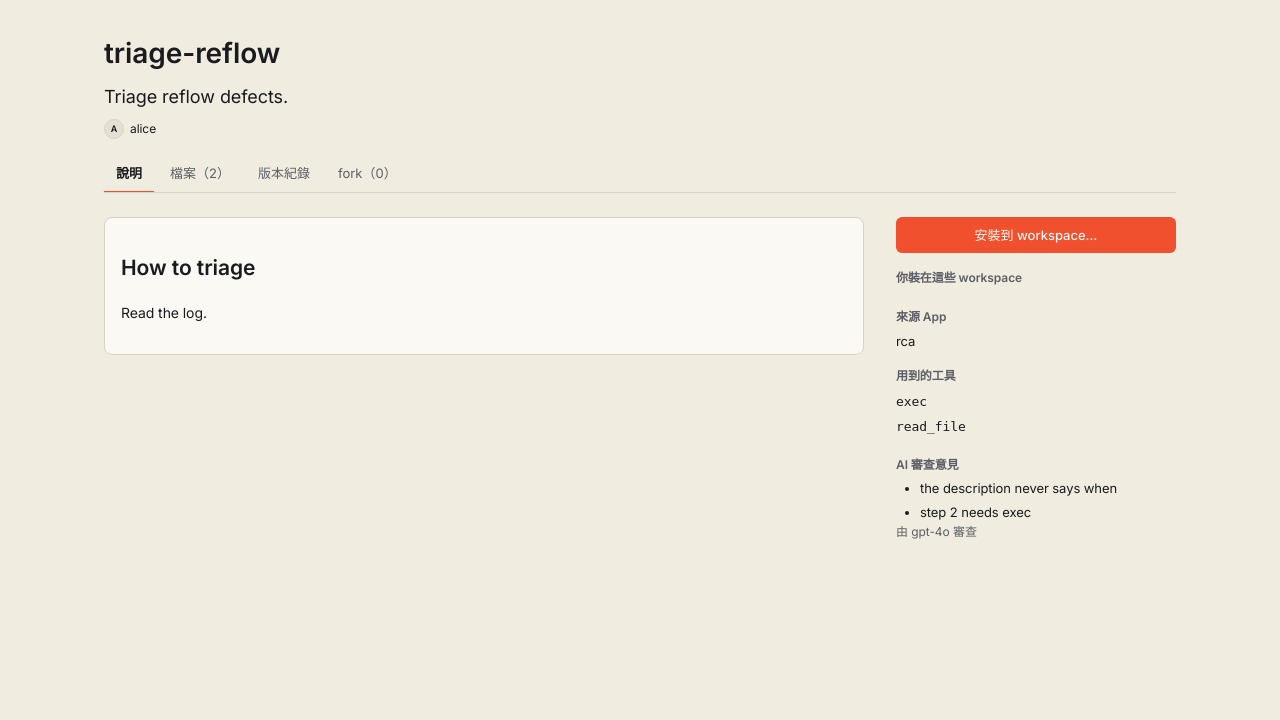
SkillHubEntryPage layout (plan-skill-hub-ux-redo D3, D5, D6, D16) › after an install, a reopen says that row is installed at once — not the stale 「可以安裝」 while it asks again (review round 3)
Click the button "安裝到 workspace…" at {"x": 1036, "y": 235}, box [896, 217, 1176, 253]
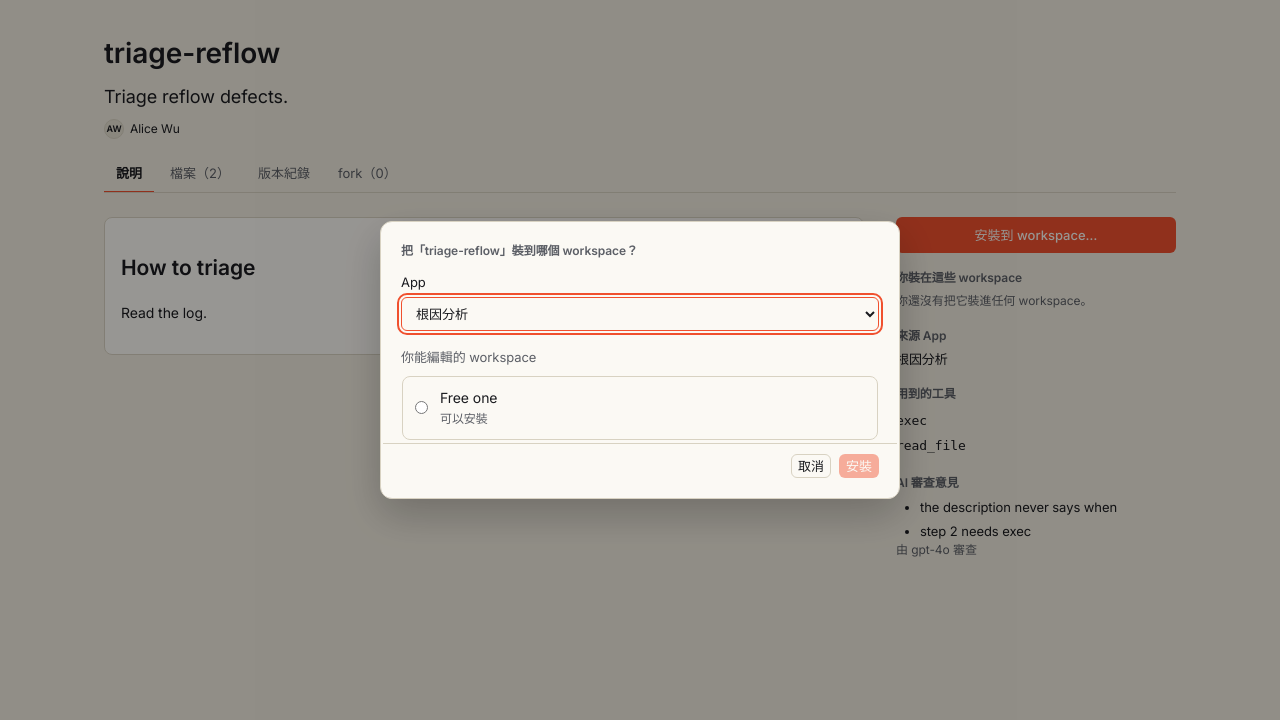
Now the text "可以安裝" is shown, box [440, 411, 488, 426]
Click the radio button labelled "Free one 可以安裝" at {"x": 422, "y": 408}, box [415, 401, 428, 414]
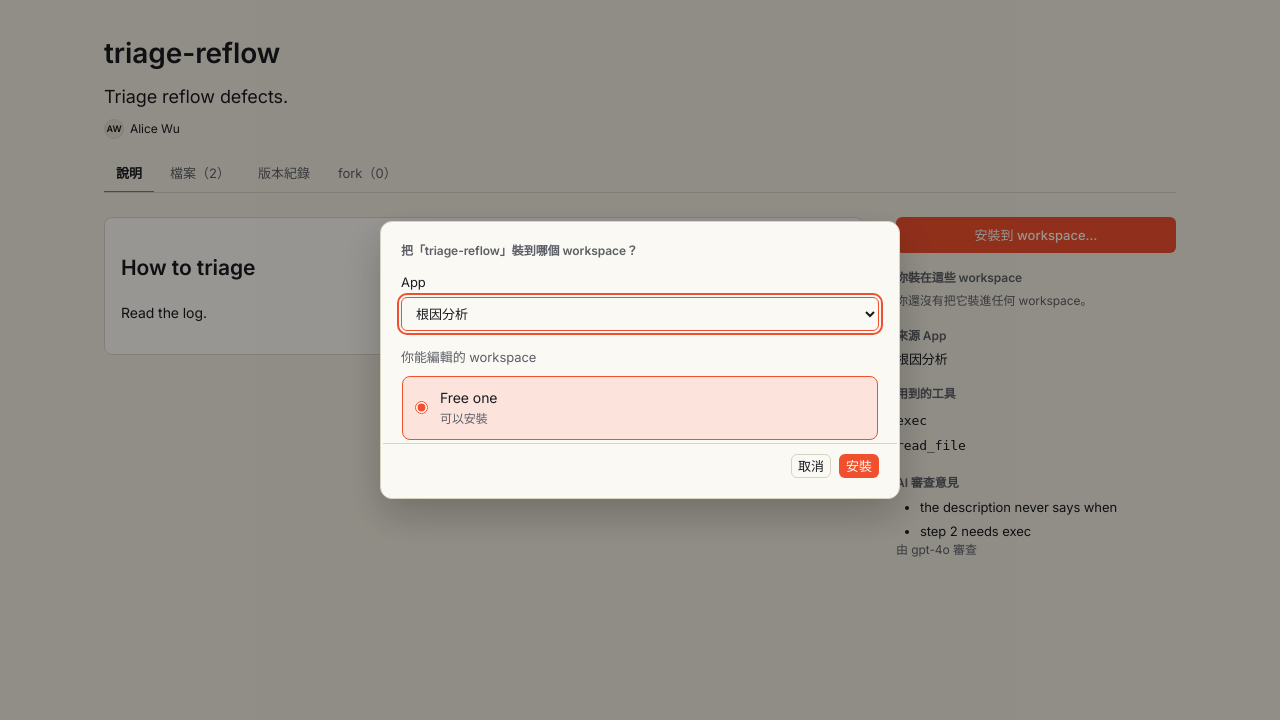
Click the button "安裝" at {"x": 859, "y": 466}, box [839, 454, 879, 478]
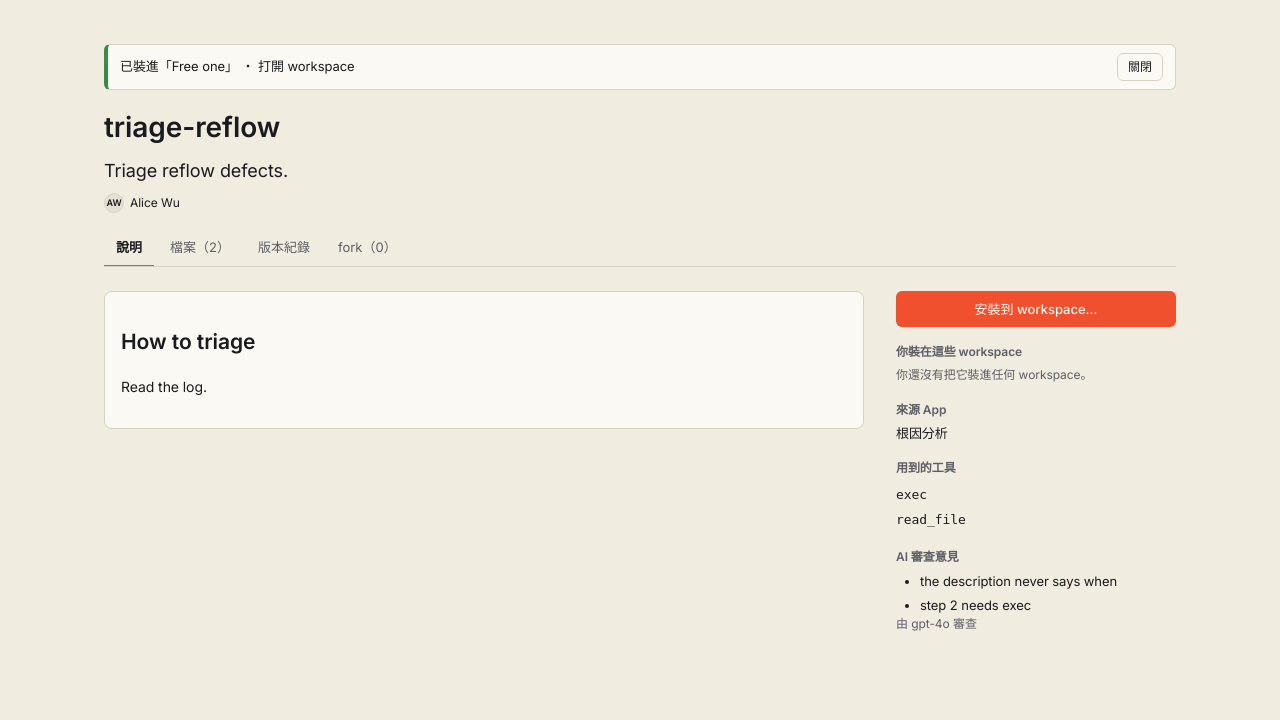
Now the message "已裝進「Free one」 ・ 打開 workspace 關閉" is shown, box [104, 44, 1176, 90]
Click the button "安裝到 workspace…" at {"x": 1036, "y": 309}, box [896, 291, 1176, 327]
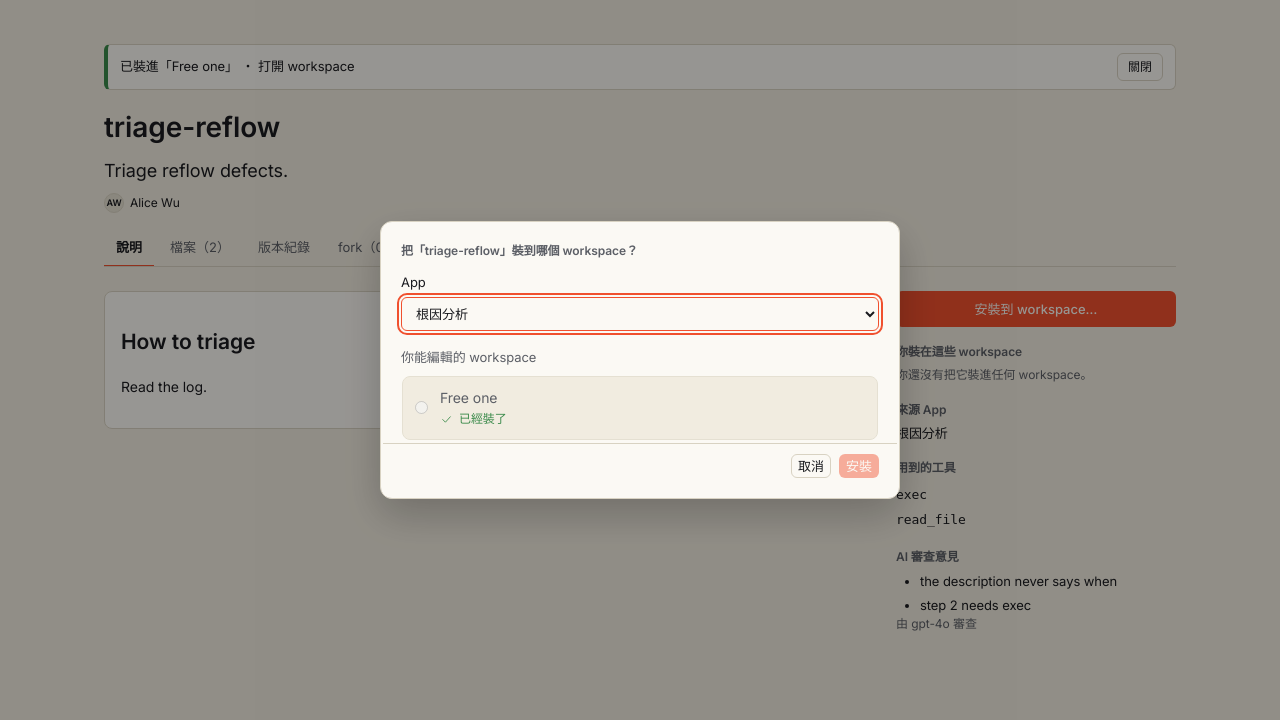
Now the text "已經裝了" is shown, box [440, 410, 507, 429]
Now the radio button labelled "Free one 已經裝了" is disabled, box [415, 401, 428, 414]
